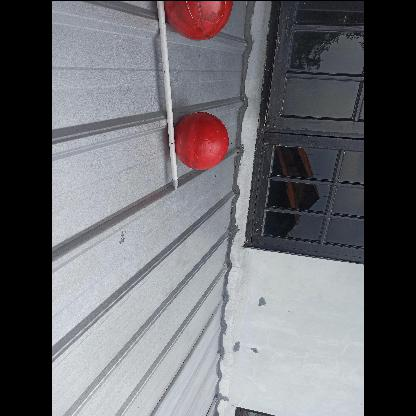red_ball: (176, 114, 230, 168)
